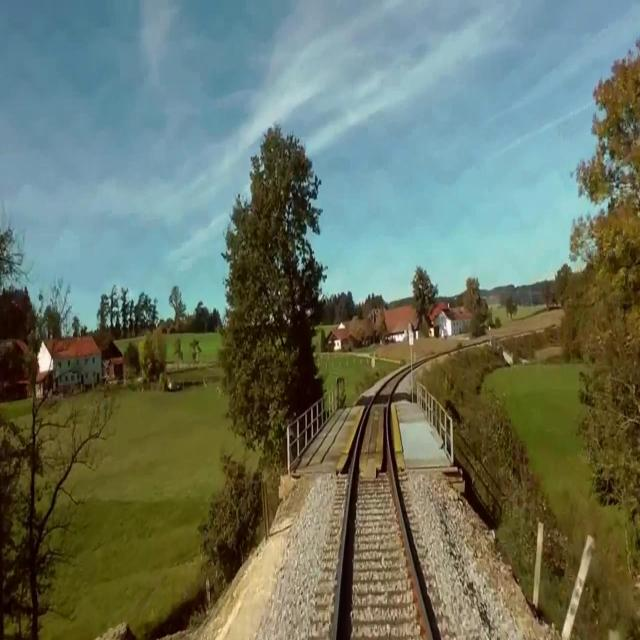rail-track: (339, 378, 429, 639)
